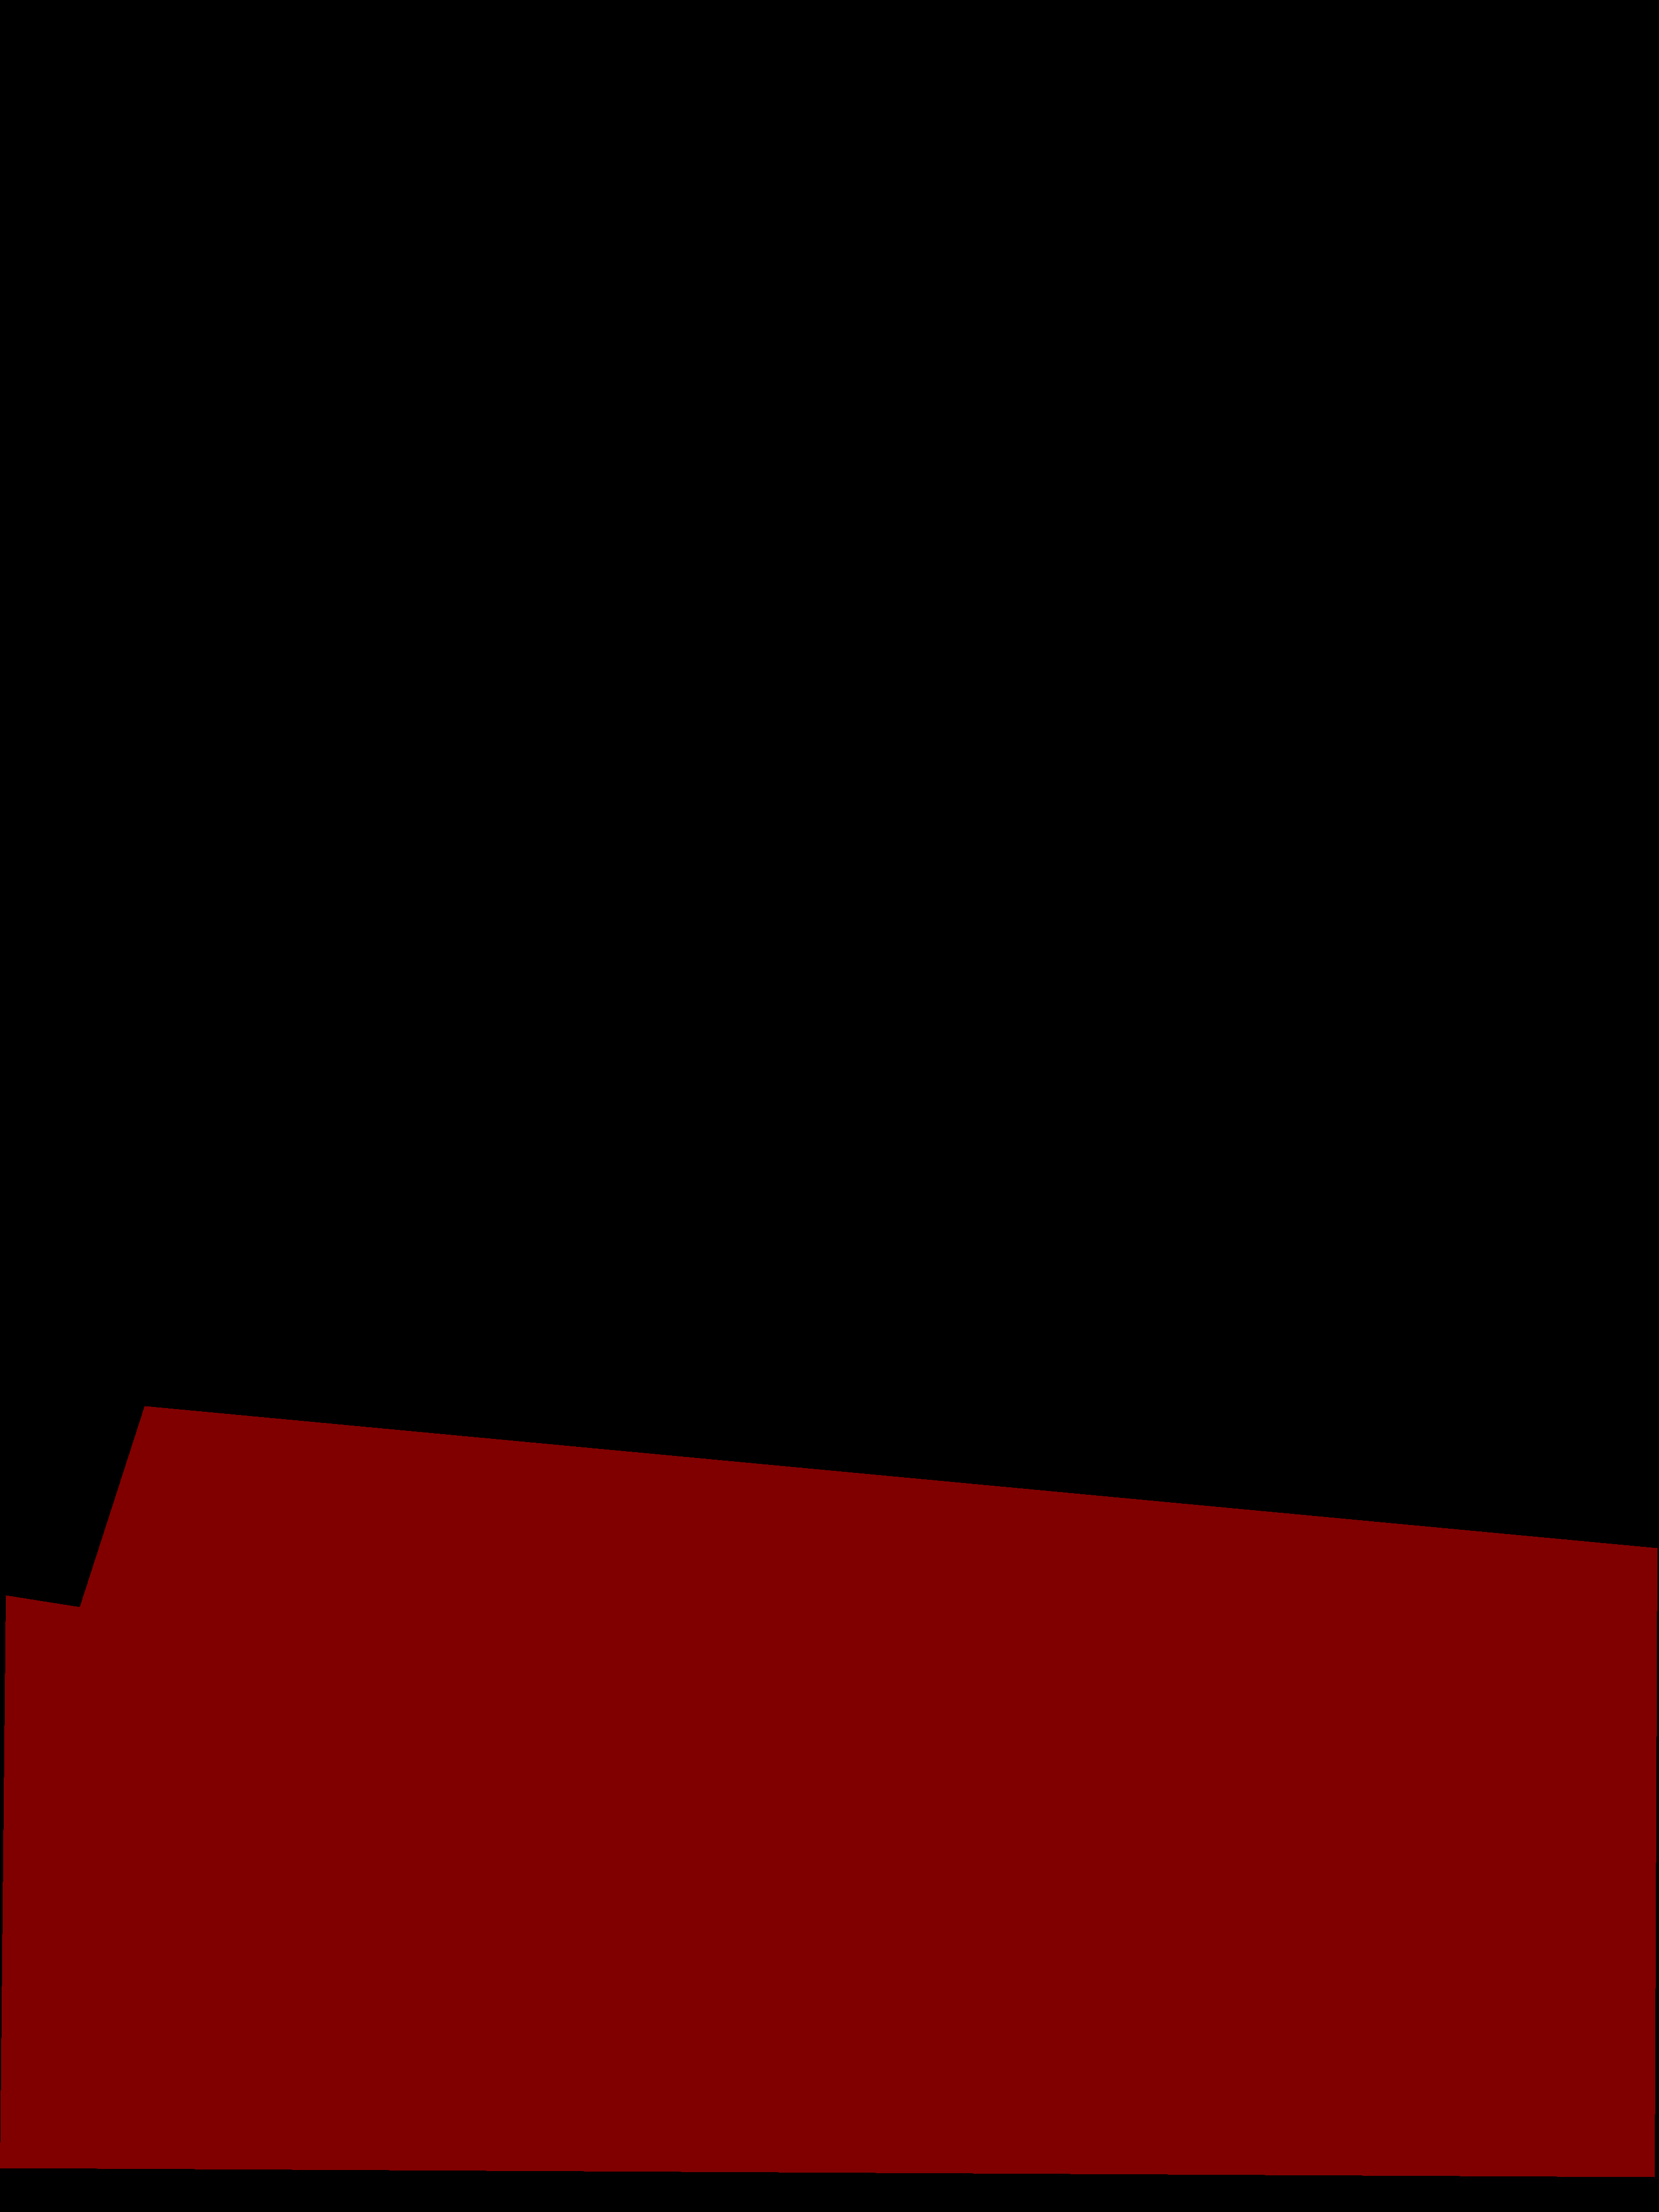stair: (0, 1406, 1657, 2177)
